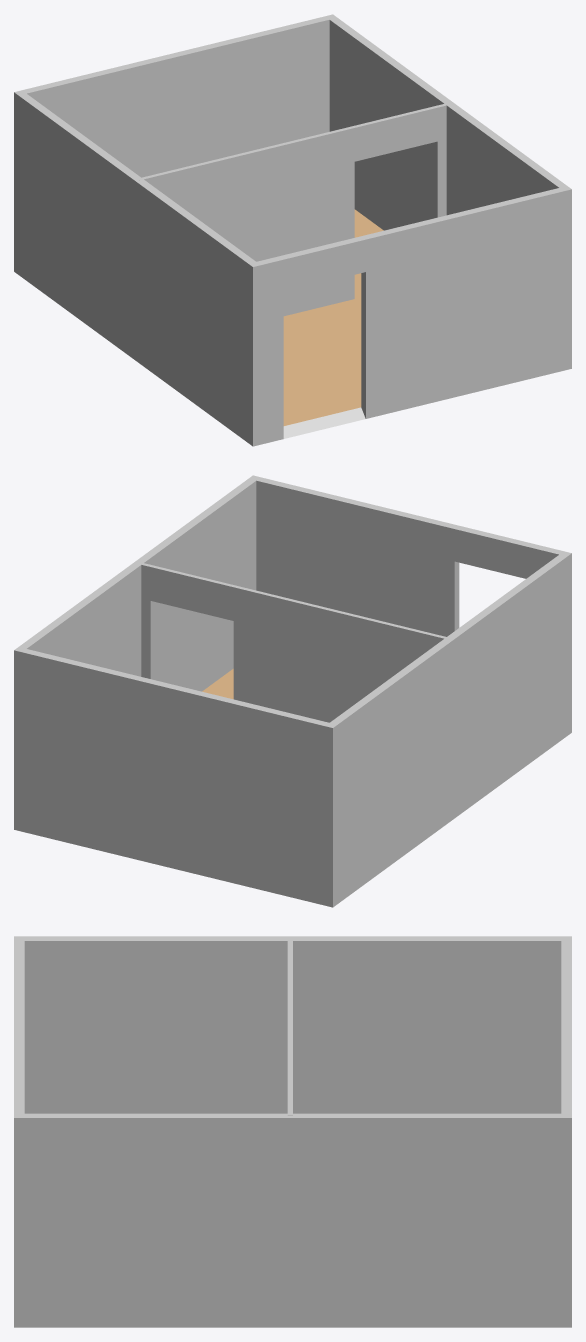
Rendered from kitchenlayout_placeholder.fbx.
3 views of the same model, one above another, from view 1: azimuth 30°, elevation 25°; view 2: azimuth 150°, elevation 25°; view 3: azimuth 270°, elevation 25° (orthographic). The views are drawn at different scales.
Visible parts, largest first — view 1: kitchen_base; view 2: kitchen_base; view 3: kitchen_base.
Part boxes in pixels (x1,y1,x2,y2): kitchen_base: (14, 14, 571, 446); kitchen_base: (14, 475, 571, 907); kitchen_base: (14, 936, 571, 1327).
Size of the model in its own units: 77.76 by 41.81 by 101.
